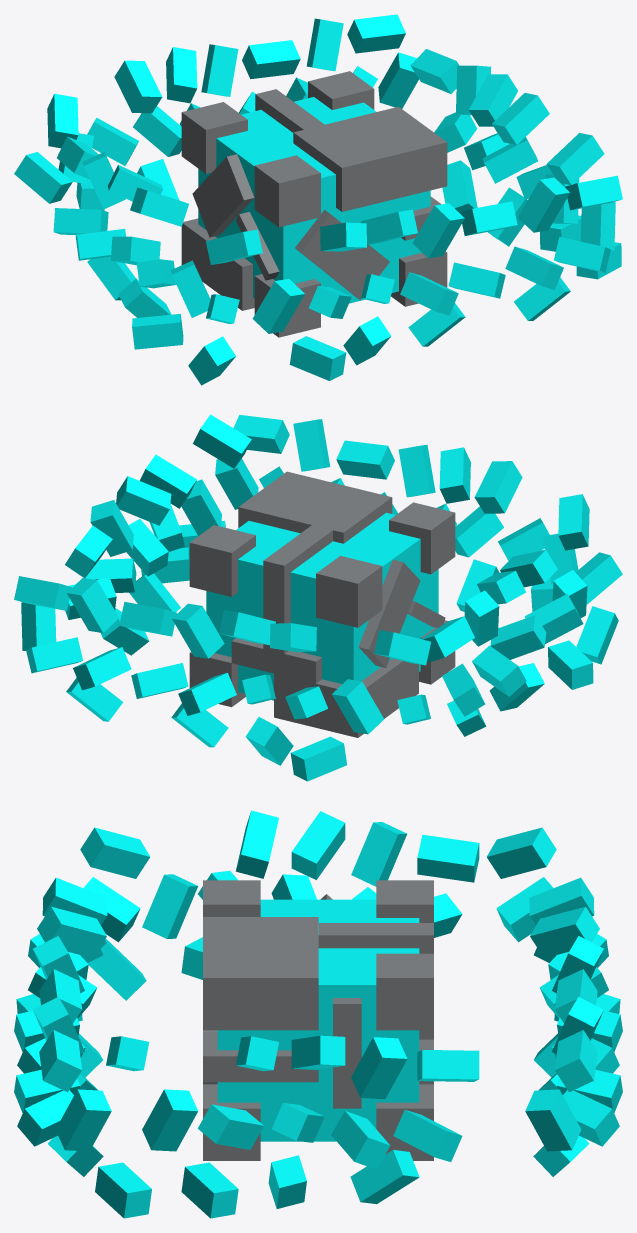
Rendered from planet_cyan.gltf.
3 views of the same model, one above another, from view 1: azimuth 30°, elevation 25°; view 2: azimuth 150°, elevation 25°; view 3: azimuth 270°, elevation 25° (orthographic). The views are drawn at different scales.
Parts seen in each view (by area): view 1: asteroid, mesh (×12); view 2: asteroid, mesh (×12); view 3: asteroid, mesh (×10).
Part boxes in pixels (<box>): asteroid: <box>14,14,622,385</box>; mesh (×12): <box>181,71,447,337</box>; asteroid: <box>14,414,622,781</box>; mesh (×12): <box>189,471,455,737</box>; asteroid: <box>14,810,622,1218</box>; mesh (×10): <box>203,880,433,1160</box>.
Size of the model in its own units: 2.69 by 0.9029 by 2.64.
1 material, 1 textured.
